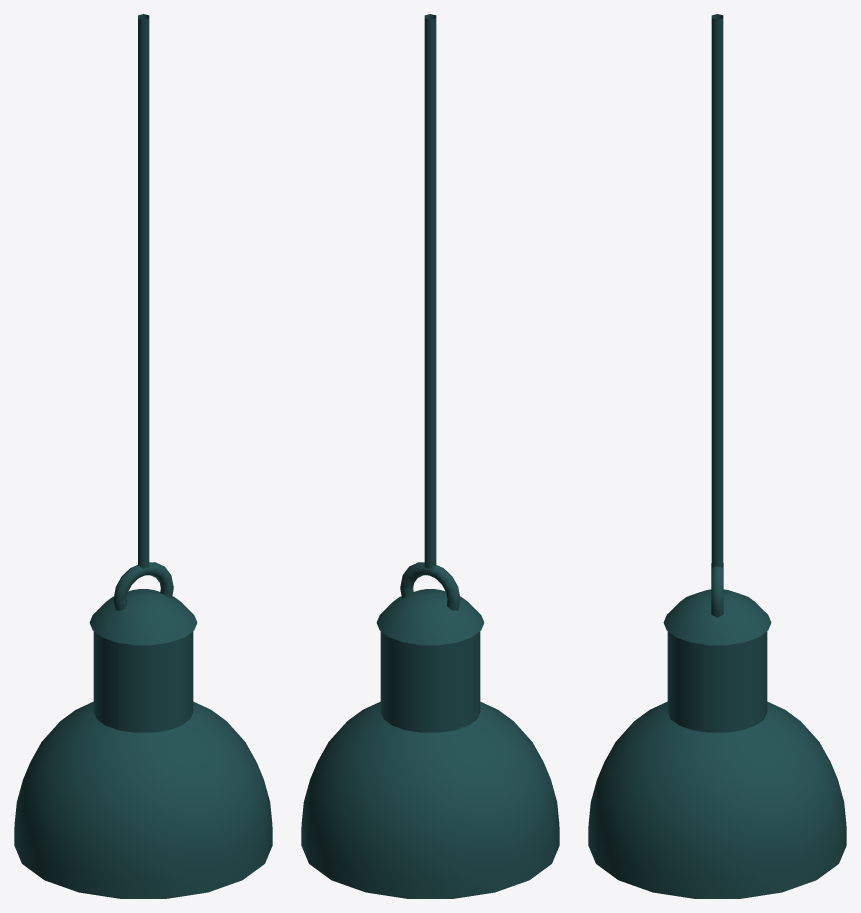
File: lampe_low.FBX
The picture shows the model from 3 angles, left to right: view 1: azimuth 30°, elevation 25°; view 2: azimuth 150°, elevation 25°; view 3: azimuth 270°, elevation 25°; orthographic projection.
Parts seen in each view (by area): view 1: lampe; view 2: lampe; view 3: lampe.
Boxes of the visible parts, left/top/right/bottom form: lampe: left=14, top=14, right=272, bottom=898; lampe: left=301, top=14, right=559, bottom=898; lampe: left=588, top=14, right=846, bottom=898.
Bounding box in the file's own units: 13.1 × 47.02 × 13.3.
